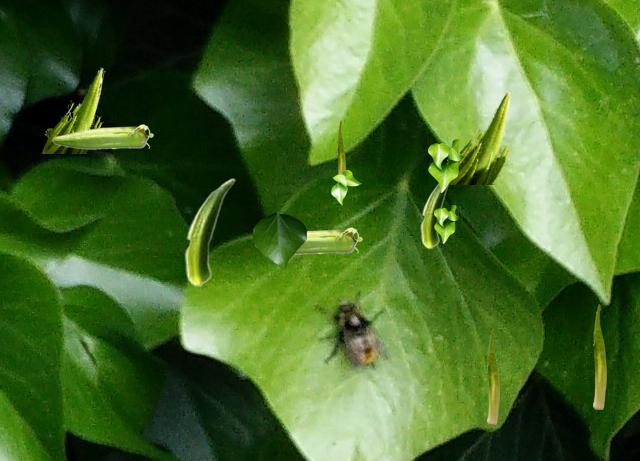okra: (446, 89, 512, 183), (184, 178, 234, 286), (41, 67, 104, 152), (255, 227, 361, 253), (52, 124, 152, 148), (420, 183, 449, 248), (593, 304, 605, 408), (487, 329, 498, 423), (337, 120, 344, 182)
